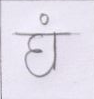anusvara: (39, 14, 50, 25)
